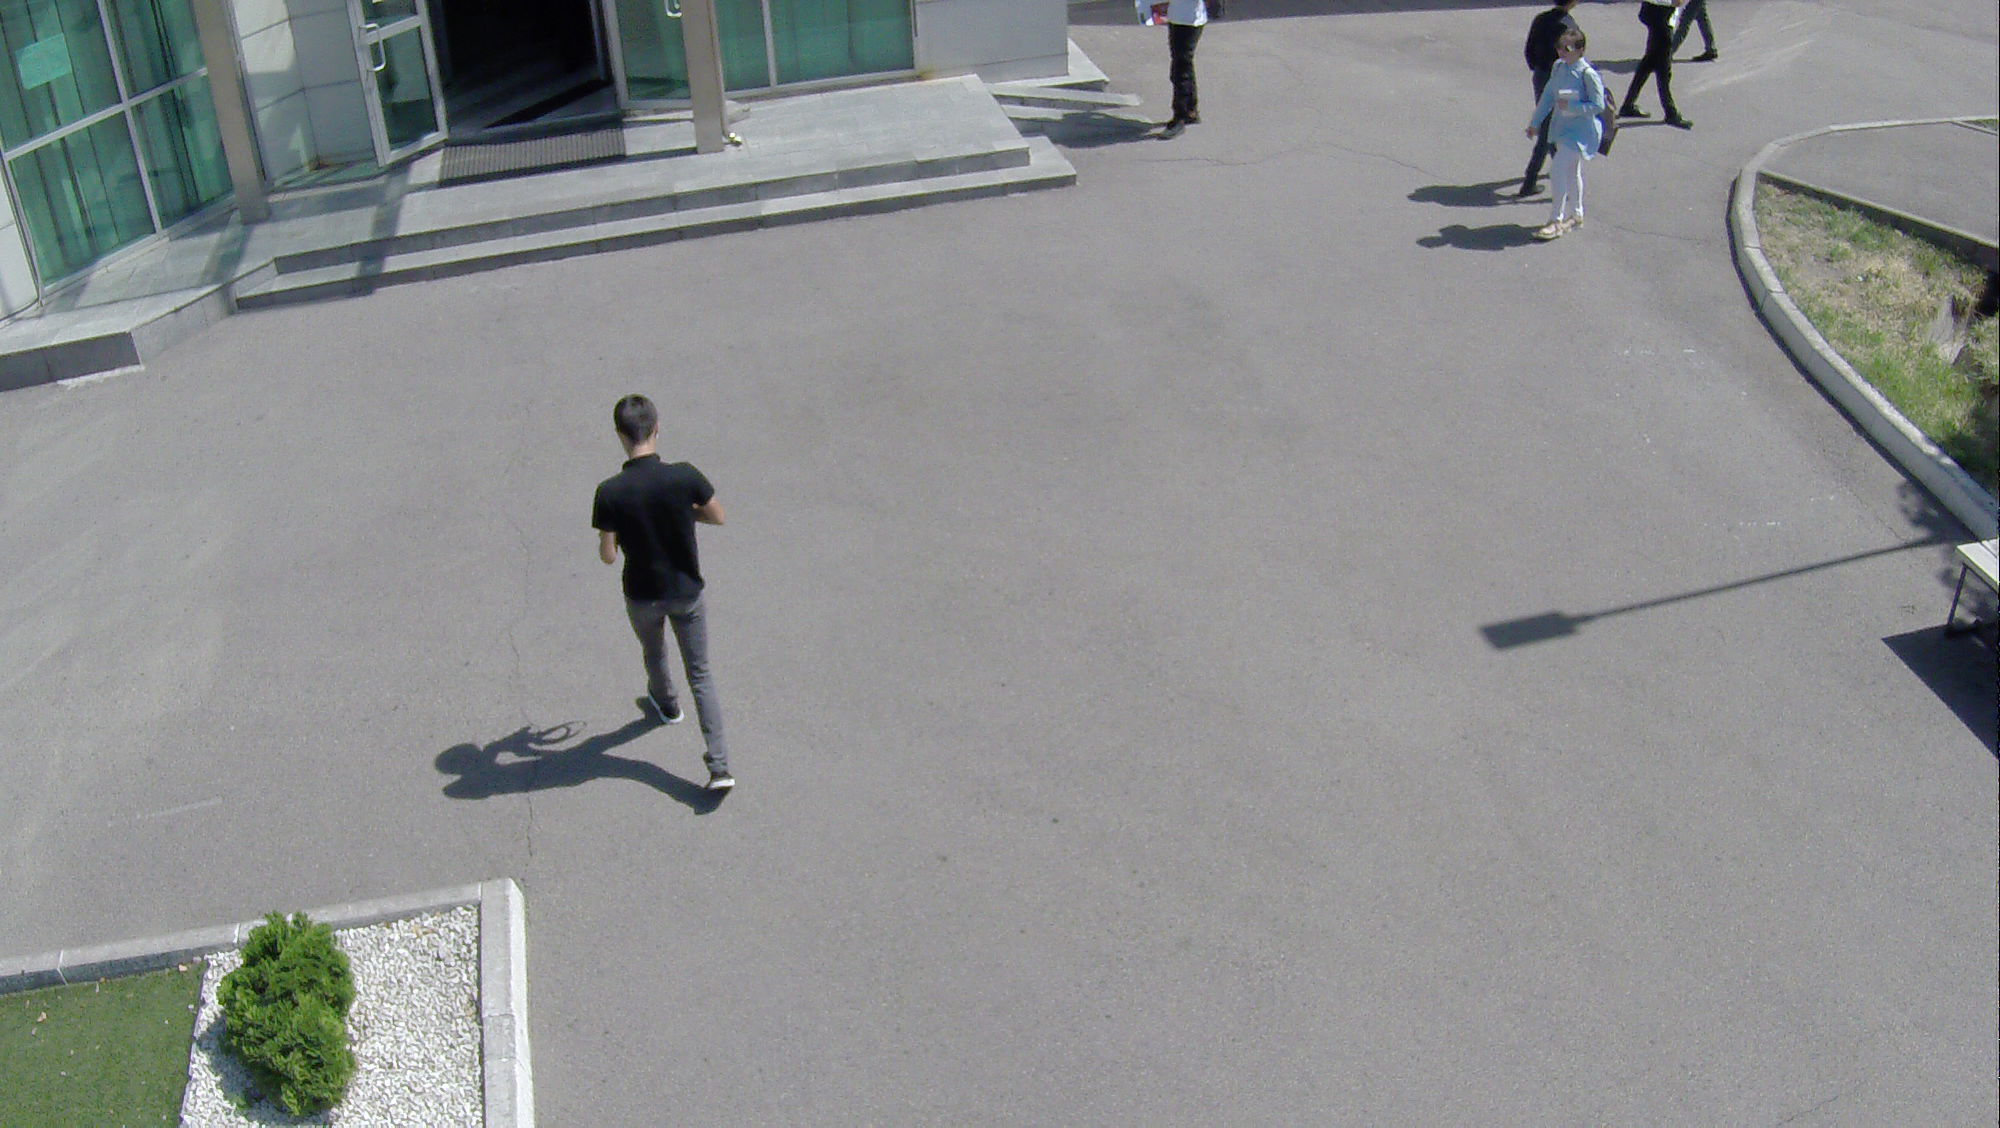person: (572, 385, 755, 816), (1524, 30, 1614, 260)
